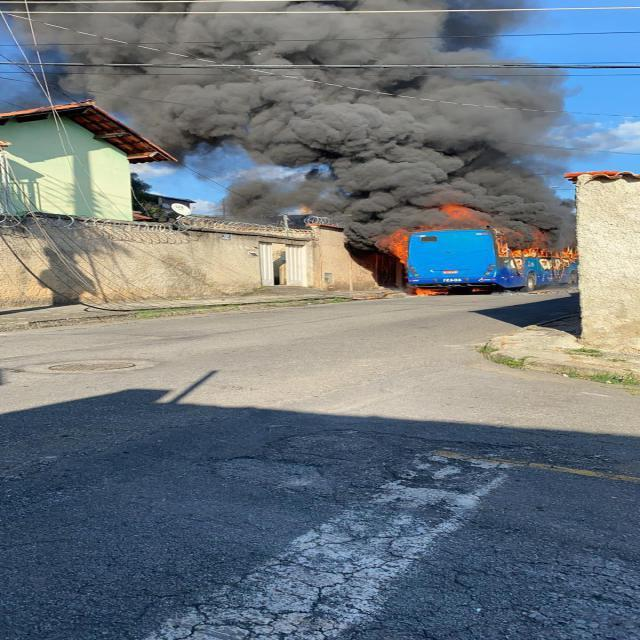Fire: (387, 228, 418, 264), (496, 245, 546, 258), (556, 247, 578, 265), (414, 288, 449, 296)
